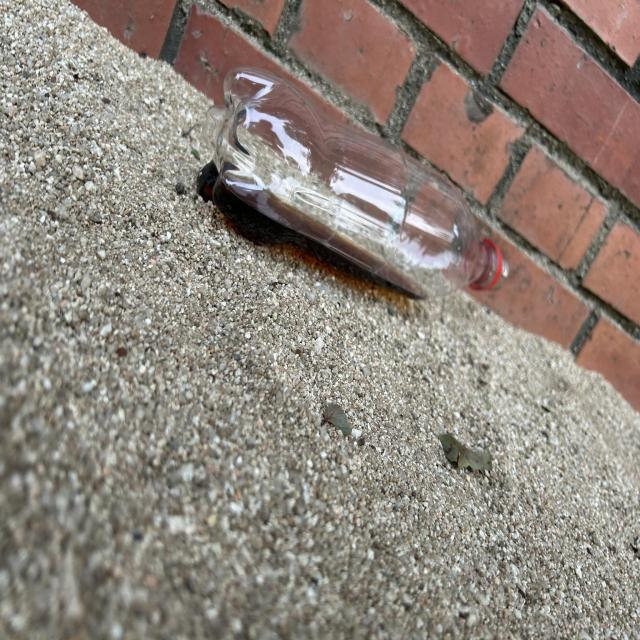low: (197, 66, 508, 298)
